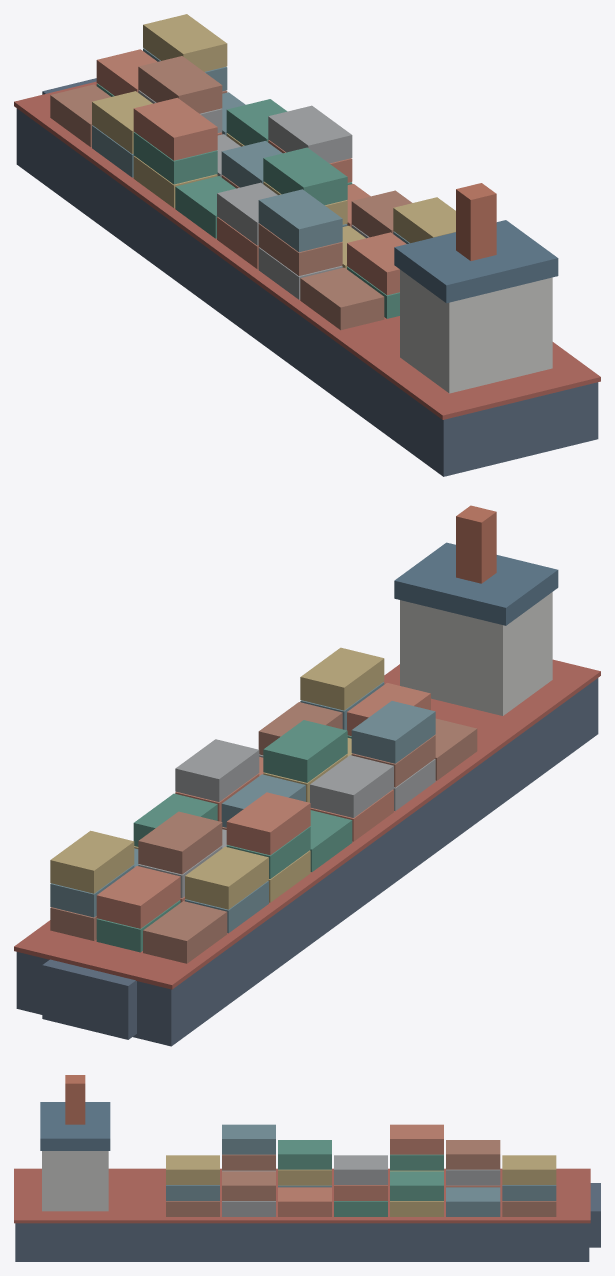
The picture shows the model from 3 angles, top to bottom: view 1: azimuth 30°, elevation 25°; view 2: azimuth 150°, elevation 25°; view 3: azimuth 270°, elevation 25°; orthographic projection. The views are drawn at different scales.
Parts seen in each view (by area): view 1: Visual; view 2: Visual; view 3: Visual.
Boxes of the visible parts, <box> form: Visual: <box>14,14,600,476</box>; Visual: <box>14,505,600,1046</box>; Visual: <box>14,1075,600,1261</box>.
Bounding box in the file's own units: 18.4 × 26 × 87.95.
